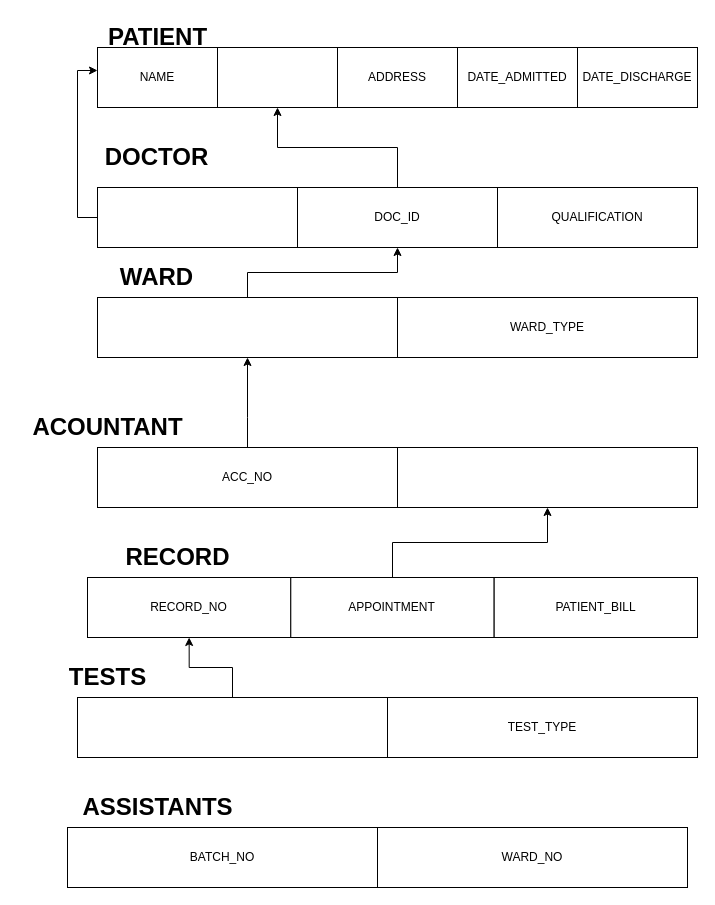
This 715x905 diagram has some shape labels left out. The shapes that lost their labels are listed below. From the top down, each one's box as (x1, y1, x2, y2) in pixels, then its label:
(216, 46, 338, 108): ID
(96, 186, 298, 248): DOC_NAME
(96, 296, 398, 358): WARD_ID
(396, 446, 698, 508): DESC
(76, 696, 388, 758): TEST_NO
